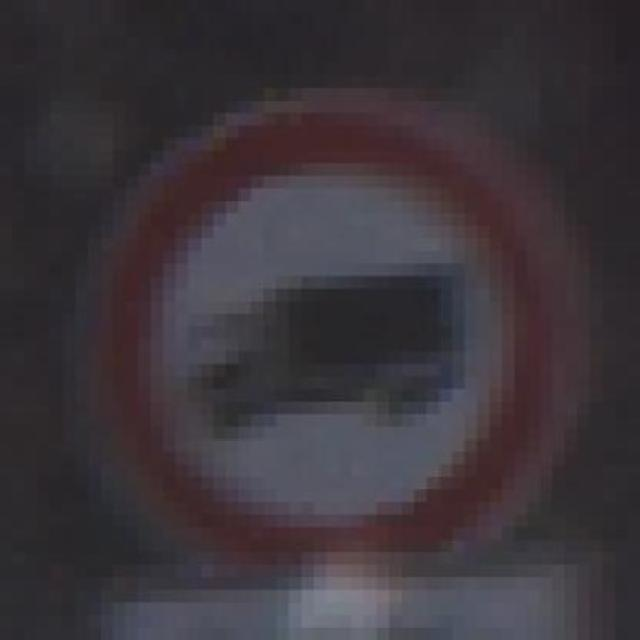Truck traffic is prohibited: (25, 50, 628, 553)
